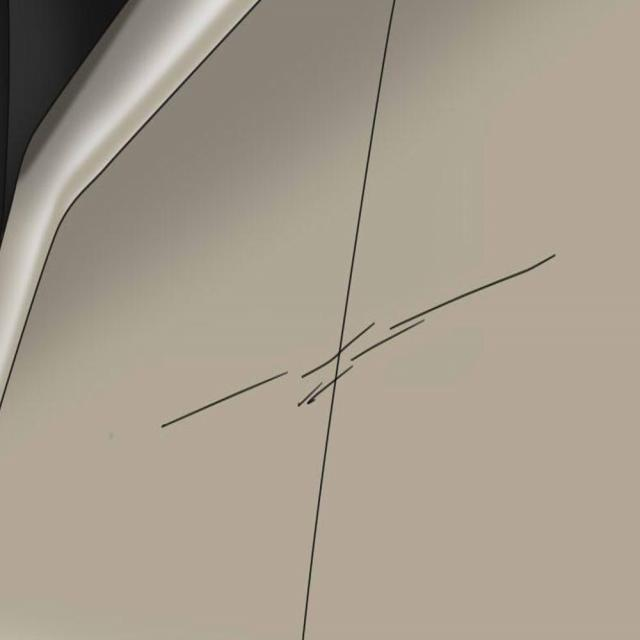scratch: (292, 240, 568, 428), (158, 354, 290, 442)
